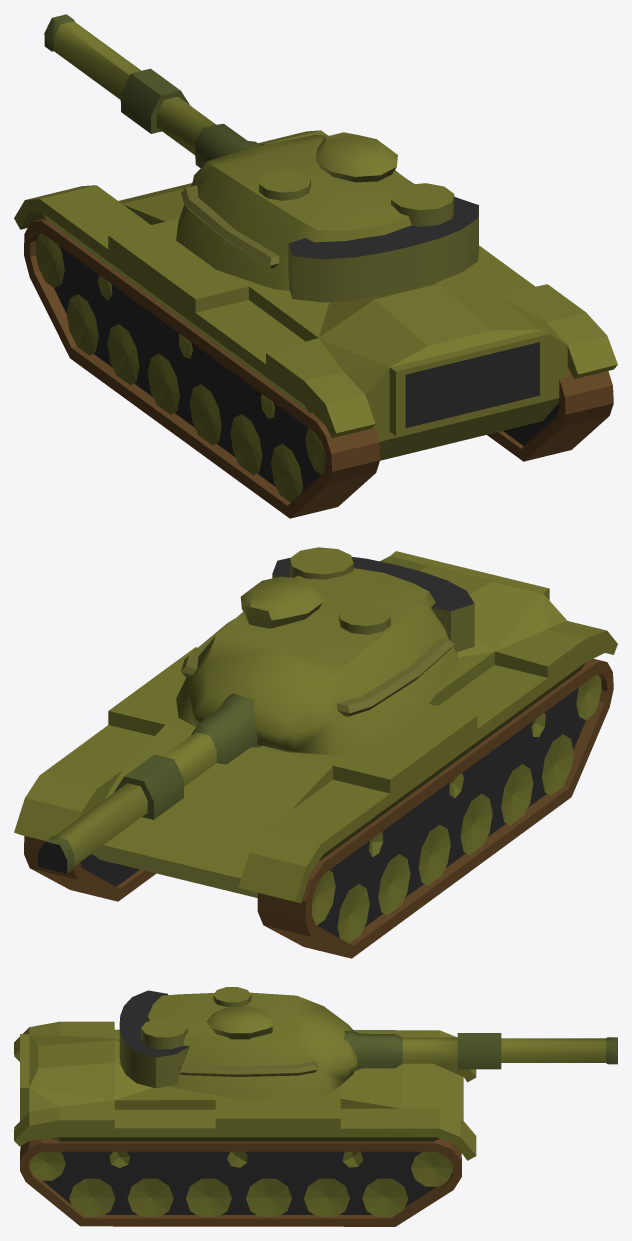
3 views of the same model, one above another, from view 1: azimuth 30°, elevation 25°; view 2: azimuth 150°, elevation 25°; view 3: azimuth 270°, elevation 25° (orthographic). The views are drawn at different scales.
Visible parts, largest first — view 1: hull.002, m60a1_turret.001, barrel; view 2: hull.002, m60a1_turret.001, barrel; view 3: hull.002, m60a1_turret.001, barrel.
Part boxes in pixels (x1,y1,x2,y2): hull.002: [14, 130, 617, 518]; m60a1_turret.001: [176, 132, 478, 302]; barrel: [44, 14, 260, 168]; hull.002: [14, 551, 617, 958]; m60a1_turret.001: [176, 547, 474, 755]; barrel: [37, 693, 261, 873]; hull.002: [14, 1021, 476, 1226]; m60a1_turret.001: [119, 987, 357, 1101]; barrel: [343, 1031, 617, 1070].
Bounding box in the file's own units: 0.3863 × 0.3211 × 1.
